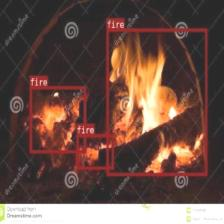fire: (106, 28, 207, 175), (29, 86, 85, 152), (76, 134, 114, 168)
